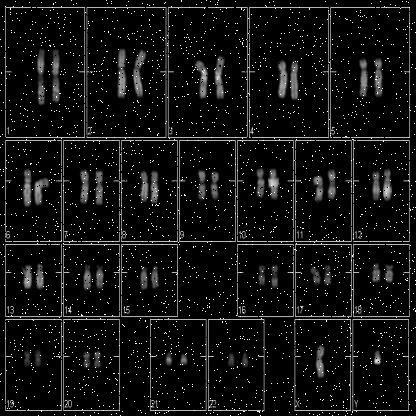1: (34, 43, 48, 110), (50, 42, 63, 110)
10: (267, 163, 280, 203), (254, 164, 266, 204)
11: (325, 164, 340, 206), (308, 172, 326, 206)
12: (370, 168, 382, 206), (382, 168, 393, 206)
13: (20, 261, 34, 291), (34, 261, 48, 290)
14: (94, 260, 108, 292), (82, 260, 94, 292)
15: (138, 262, 150, 294), (149, 262, 161, 294)
16: (256, 258, 266, 292), (270, 258, 280, 292)
17: (306, 259, 323, 293), (322, 259, 338, 293)
18: (384, 258, 395, 288), (370, 258, 380, 288)
19: (21, 342, 34, 372), (33, 344, 46, 373)
2: (114, 44, 130, 101), (132, 44, 147, 101)
20: (91, 346, 106, 370), (78, 346, 92, 370)
21: (177, 344, 193, 372), (160, 346, 176, 373)
22: (239, 349, 254, 372), (224, 349, 238, 372)
3: (192, 54, 212, 103), (211, 53, 231, 102)
4: (274, 51, 289, 106), (289, 51, 304, 106)
5: (370, 53, 387, 104), (354, 53, 370, 104)
6: (20, 163, 35, 212), (35, 163, 48, 212)
7: (94, 162, 107, 209), (78, 162, 90, 209)
8: (149, 166, 162, 208), (138, 168, 150, 207)
9: (196, 164, 208, 206), (208, 163, 220, 205)
X: (313, 340, 328, 384)
Y: (370, 342, 384, 372)
